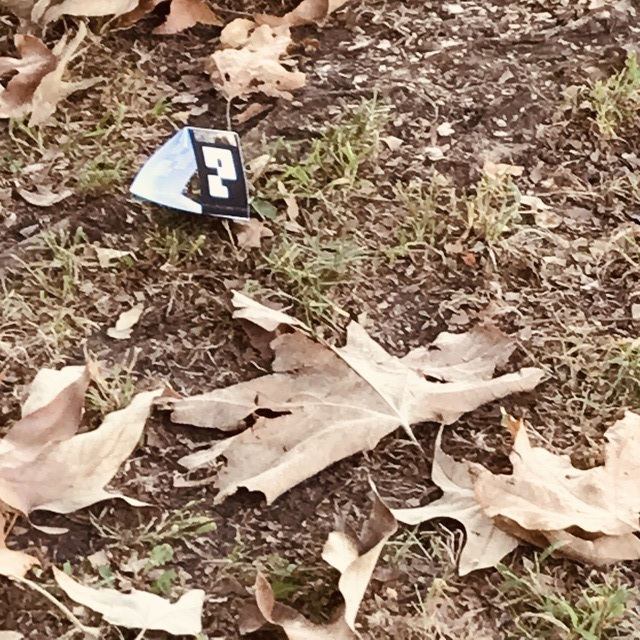ARTag: (129, 125, 250, 221)
